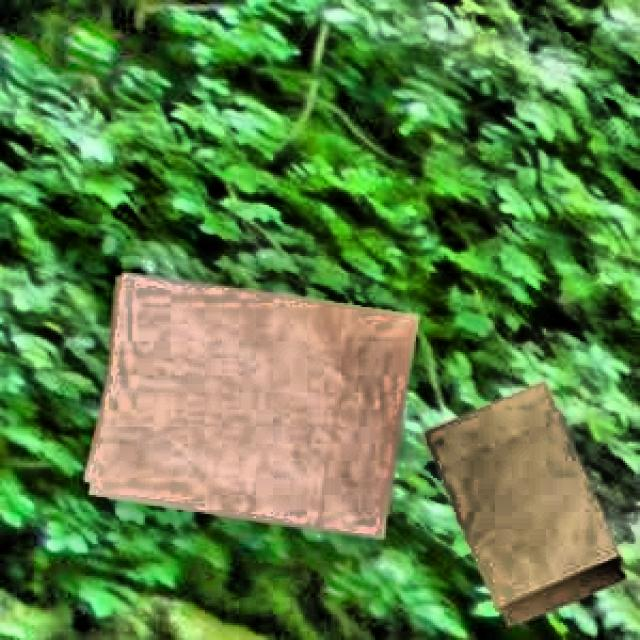Paper-bag: (74, 272, 417, 557), (413, 356, 640, 633)
